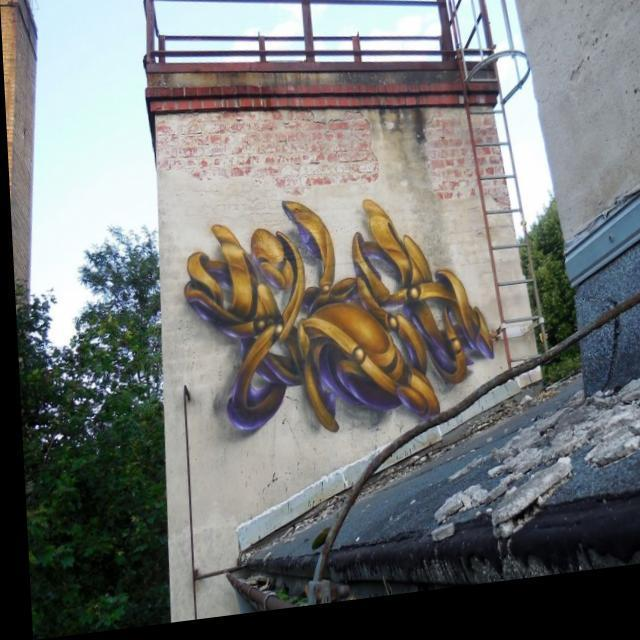nonspitting: (182, 197, 496, 437)
